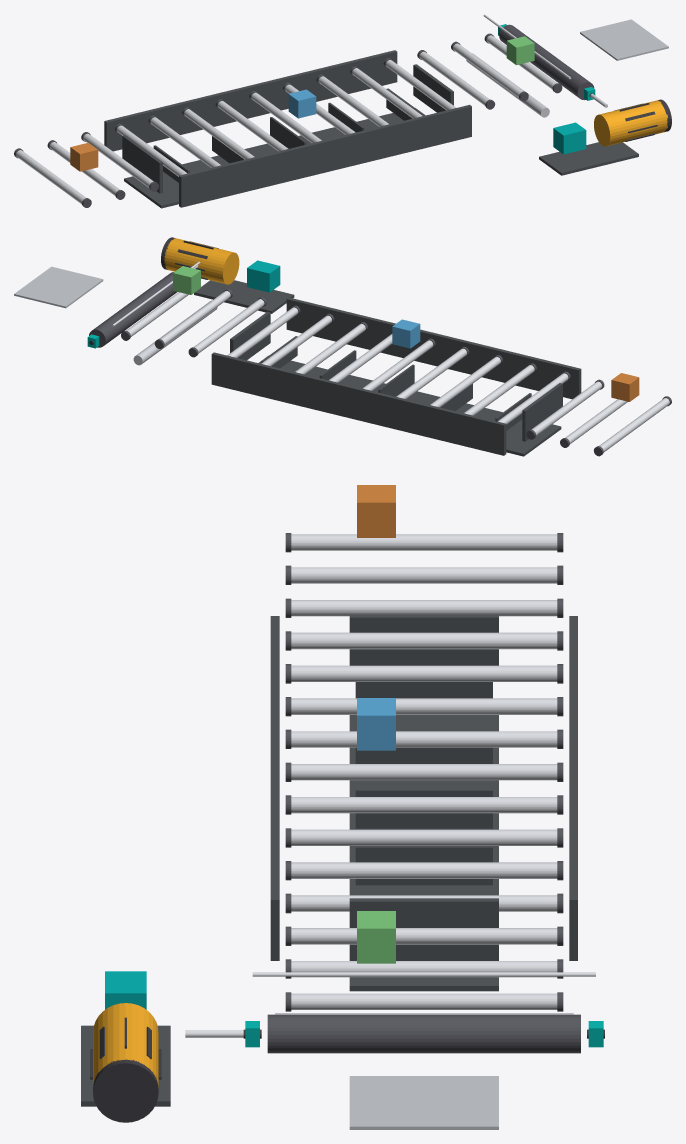
The model's file is conveyor_belt.glb.
3 views of the same model, one above another, from view 1: azimuth 30°, elevation 25°; view 2: azimuth 150°, elevation 25°; view 3: azimuth 270°, elevation 25° (orthographic). The views are drawn at different scales.
Parts seen in each view (by area): view 1: SideFrame_-1.0, SideFrame_1.0, MotorBody, FrameBottom, BedPlate, MotorBase, DriveRoller, EndPlate_-4.5, Gearbox, EndPlate_4.5, CarrierRoller_6, CarrierRoller_-7 (+21 smaller); view 2: SideFrame_1.0, SideFrame_-1.0, FrameBottom, BedPlate, MotorBody, DriveRoller, MotorBase, EndPlate_-4.5, Gearbox, EndPlate_4.5, CarrierRoller_-7, CarrierRoller_-5 (+20 smaller); view 3: DriveRoller, FrameBottom, BedPlate, EndPlate_4.5, EndPlate_-4.5, CarrierRoller_-4, CarrierRoller_-6, CarrierRoller_3, CarrierRoller_-3, CarrierRoller_0, CarrierRoller_1, CarrierRoller_2 (+22 smaller).
Boxes of the visible parts, <box> form: SideFrame_-1.0: <box>179,104,471,207</box>; SideFrame_1.0: <box>104,50,397,151</box>; MotorBody: <box>594,100,667,146</box>; FrameBottom: <box>124,108,425,208</box>; BedPlate: <box>580,19,668,60</box>; MotorBase: <box>539,142,638,175</box>; DriveRoller: <box>499,24,594,100</box>; EndPlate_-4.5: <box>122,135,162,193</box>; Gearbox: <box>553,122,586,154</box>; EndPlate_4.5: <box>413,64,453,112</box>; CarrierRoller_6: <box>453,43,523,97</box>; CarrierRoller_-7: <box>16,150,86,204</box>; SideFrame_1.0: <box>211,352,506,455</box>; SideFrame_-1.0: <box>286,297,581,399</box>; FrameBottom: <box>258,355,561,456</box>; BedPlate: <box>14,266,103,308</box>; MotorBody: <box>164,238,239,284</box>; DriveRoller: <box>89,272,177,347</box>; MotorBase: <box>194,280,294,313</box>; EndPlate_-4.5: <box>522,383,562,441</box>; Gearbox: <box>247,260,280,292</box>; EndPlate_4.5: <box>230,311,270,360</box>; CarrierRoller_-7: <box>599,398,669,452</box>; CarrierRoller_-5: <box>531,381,602,435</box>; DriveRoller: <box>267,1014,580,1053</box>; FrameBottom: <box>349,715,498,991</box>; BedPlate: <box>349,1076,498,1129</box>; EndPlate_4.5: <box>349,898,498,960</box>; EndPlate_-4.5: <box>349,614,498,665</box>; CarrierRoller_-4: <box>291,632,557,649</box>; CarrierRoller_-6: <box>291,567,557,583</box>; CarrierRoller_3: <box>291,862,557,878</box>; CarrierRoller_-3: <box>291,665,557,681</box>; CarrierRoller_0: <box>291,764,557,780</box>; CarrierRoller_1: <box>291,797,557,813</box>; CarrierRoller_2: <box>291,829,557,845</box>.
Bounding box in the file's own units: 9.31 × 1.07 × 3.51.
